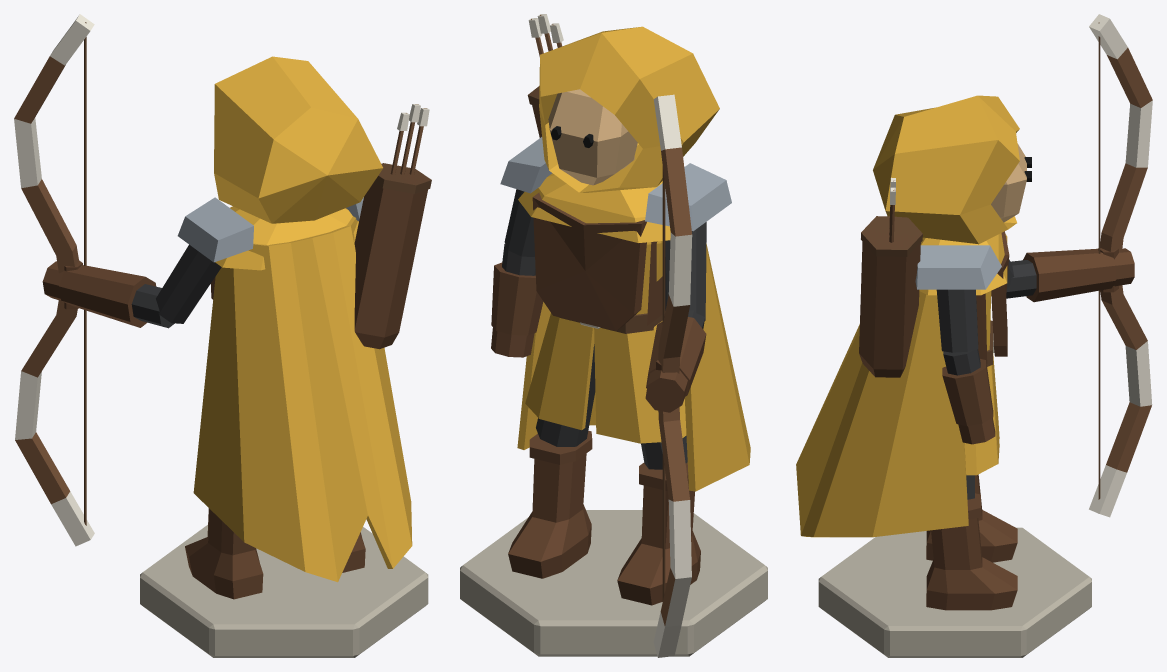
File: human_archer_t5.glb
3 renders of one model, left to right at view 1: azimuth 30°, elevation 25°; view 2: azimuth 150°, elevation 25°; view 3: azimuth 270°, elevation 25°, orthographic. The views are drawn at different scales.
Visible parts, largest first — view 1: Archer_Long_Two_Point_Cape, Foundation_Hexagonal_Stone, Pointed_Open_Hood_Shell, Continuous_Recurve_Bow, Single_Right_Back_Quiver, Boot_-1, left_bracer, shoulder_plate_left, Continuous_Shoulder_Mantle, left_upper_sleeve, Taut_Bow_String, Quiver_Mouth_Band (+1 smaller); view 2: Foundation_Hexagonal_Stone, Pointed_Open_Hood_Shell, Continuous_Recurve_Bow, leather_jerkin, Archer_Long_Two_Point_Cape, Boot_1, Angular_Face, Continuous_Shoulder_Mantle, Boot_-1, Split_Tunic_Front_1, Split_Tunic_Front_-1, Continuous_Split_Tunic_Skirt (+17 smaller); view 3: Archer_Long_Two_Point_Cape, Foundation_Hexagonal_Stone, Pointed_Open_Hood_Shell, Continuous_Recurve_Bow, Single_Right_Back_Quiver, Boot_1, left_bracer, shoulder_plate_right, right_upper_sleeve, right_bracer, Quiver_Mouth_Band, Boot_-1 (+10 smaller).
Part boxes in pixels (box(x1,y1,x2,y2)): Archer_Long_Two_Point_Cape: box(193, 216, 412, 582); Foundation_Hexagonal_Stone: box(140, 525, 428, 657); Pointed_Open_Hood_Shell: box(214, 56, 382, 223); Continuous_Recurve_Bow: box(14, 14, 94, 546); Single_Right_Back_Quiver: box(354, 169, 429, 349); Boot_-1: box(185, 508, 263, 599); left_bracer: box(59, 265, 156, 327); shoulder_plate_left: box(177, 197, 253, 262); Continuous_Shoulder_Mantle: box(215, 206, 358, 270); left_upper_sleeve: box(156, 244, 221, 323); Taut_Bow_String: box(84, 22, 86, 525); Quiver_Mouth_Band: box(374, 163, 431, 193); Foundation_Hexagonal_Stone: box(460, 510, 767, 656); Pointed_Open_Hood_Shell: box(539, 26, 719, 192); Continuous_Recurve_Bow: box(653, 94, 692, 657); leather_jerkin: box(532, 192, 646, 330); Archer_Long_Two_Point_Cape: box(517, 243, 750, 491); Boot_1: box(508, 453, 591, 578); Angular_Face: box(548, 89, 637, 185); Continuous_Shoulder_Mantle: box(518, 173, 670, 242); Boot_-1: box(617, 485, 700, 605); Split_Tunic_Front_1: box(538, 318, 594, 430); Split_Tunic_Front_-1: box(594, 328, 641, 443); Continuous_Split_Tunic_Skirt: box(525, 313, 686, 443); Archer_Long_Two_Point_Cape: box(796, 291, 968, 537); Foundation_Hexagonal_Stone: box(818, 527, 1091, 657); Pointed_Open_Hood_Shell: box(873, 95, 1019, 244); Continuous_Recurve_Bow: box(1089, 14, 1152, 517); Single_Right_Back_Quiver: box(859, 219, 920, 377); Boot_1: box(926, 518, 1017, 610); left_bracer: box(1023, 248, 1115, 302); shoulder_plate_right: box(915, 245, 1001, 289); right_upper_sleeve: box(936, 289, 978, 352); right_bracer: box(942, 359, 993, 426); Quiver_Mouth_Band: box(861, 216, 922, 256); Boot_-1: box(926, 474, 1017, 562).
Bounding box in the file's own units: 1.05 × 2 × 1.21.
